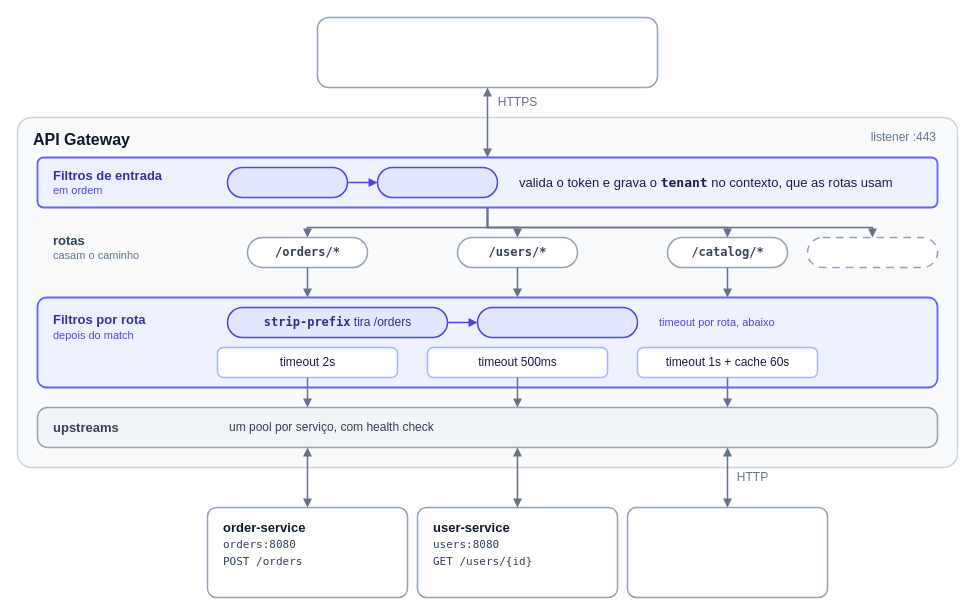
Some shapes in this 976 by 616 pixel diagram are drawn without their labels. Each missing label, with the centre of its shape:
auth-jwt: point 287,182
catalog-service catalog:8080 GET /items GET /items/{sku}: point 727,552
Cliente app web ou mobile POST /orders {"sku": "A-1", "qty": 2}: point 487,52
o resto → 404: point 872,252
rate-limit: point 437,182
retry 2x em 503: point 557,322
